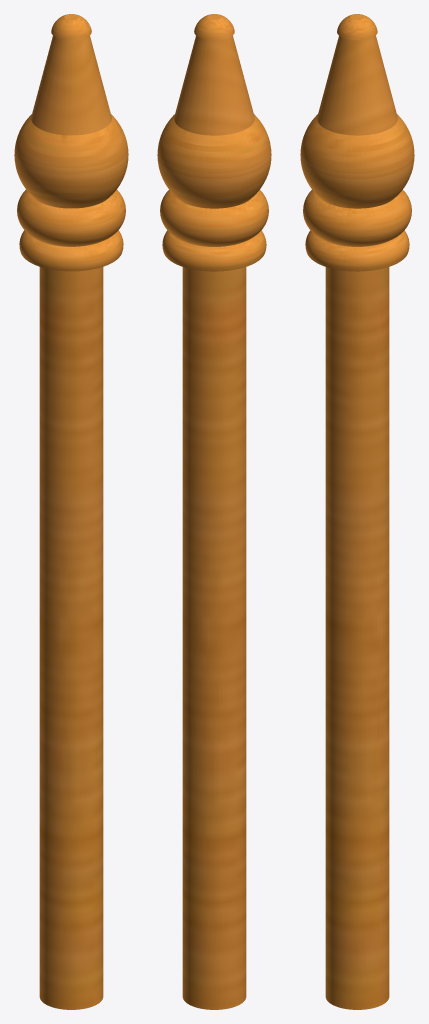
The model's file is original-40.obj.
3 renders of one model, left to right at view 1: azimuth 30°, elevation 25°; view 2: azimuth 210°, elevation 25°; view 3: azimuth 270°, elevation 25°, orthographic.
Parts seen in each view (by area): view 1: mesh51/mesh51-geometry#mesh51-geometry; view 2: mesh51/mesh51-geometry#mesh51-geometry; view 3: mesh51/mesh51-geometry#mesh51-geometry.
Boxes of the visible parts, <box> form: mesh51/mesh51-geometry#mesh51-geometry: <box>14,14,128,1009</box>; mesh51/mesh51-geometry#mesh51-geometry: <box>157,14,271,1009</box>; mesh51/mesh51-geometry#mesh51-geometry: <box>300,14,414,1009</box>.
Size of the model in its own units: 0.00686 by 0.065 by 0.00686.
